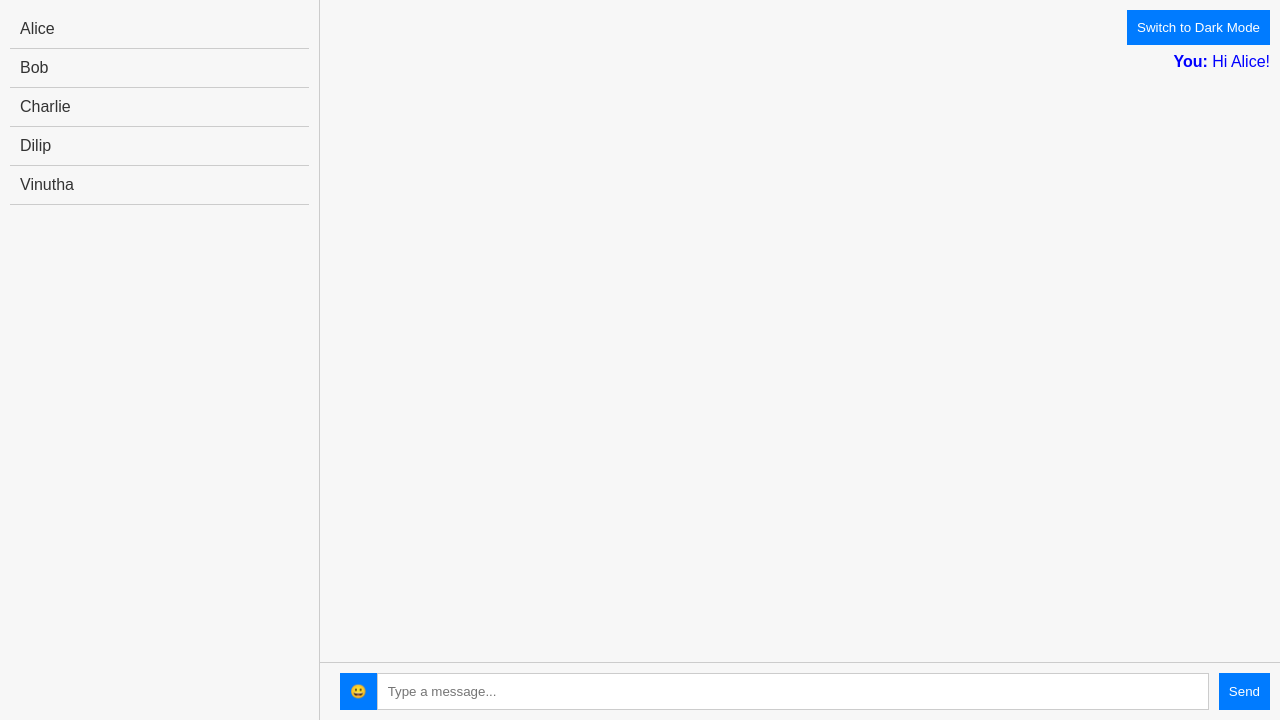
Test: App component › sends a message
Type "Hello!" into the field with placeholder "Type a message..." at (793, 692), box [377,673,1209,710]
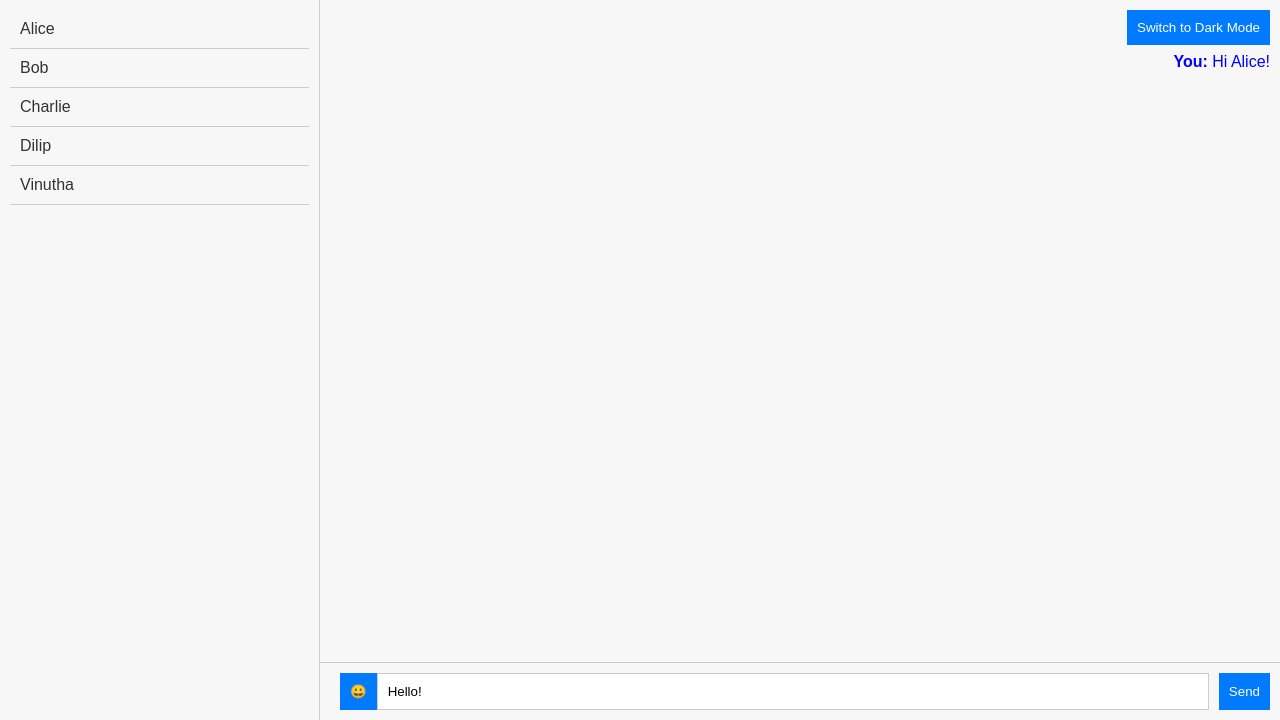
Click the button "Send" at (1244, 692), box [1219,673,1270,710]
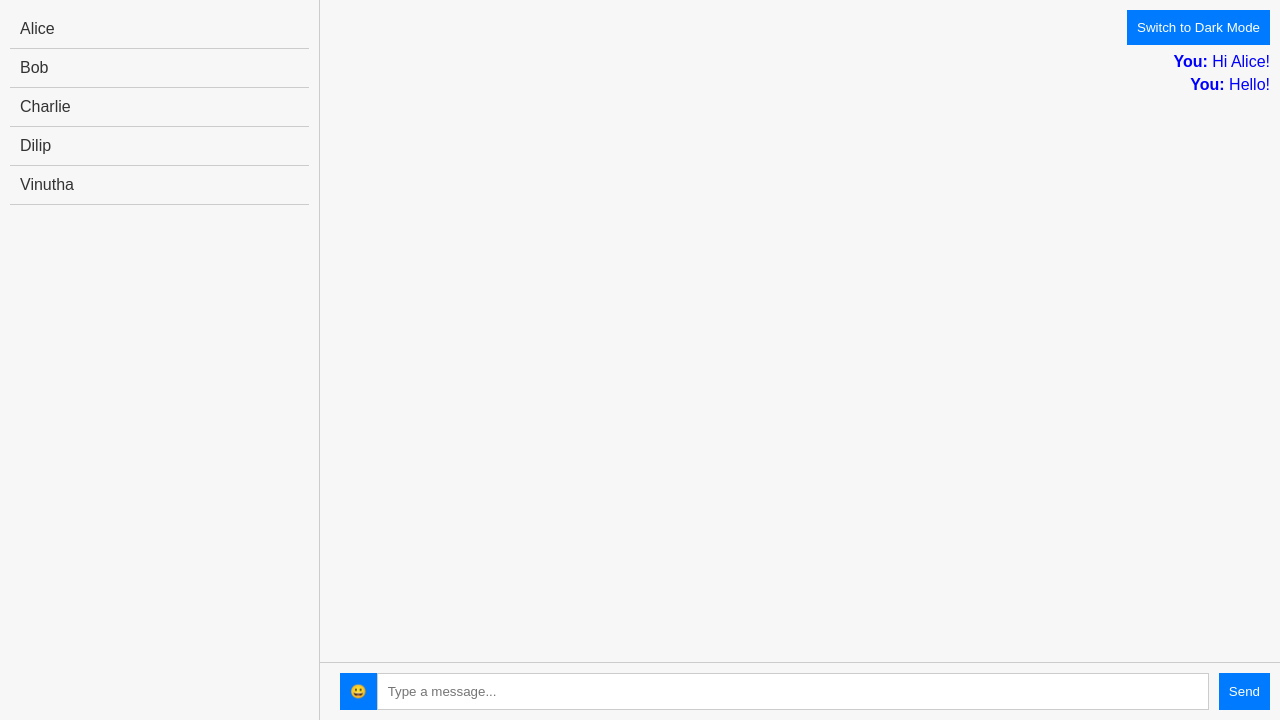
Expected: the text "Hello!" is shown, [1229,76,1270,93]
